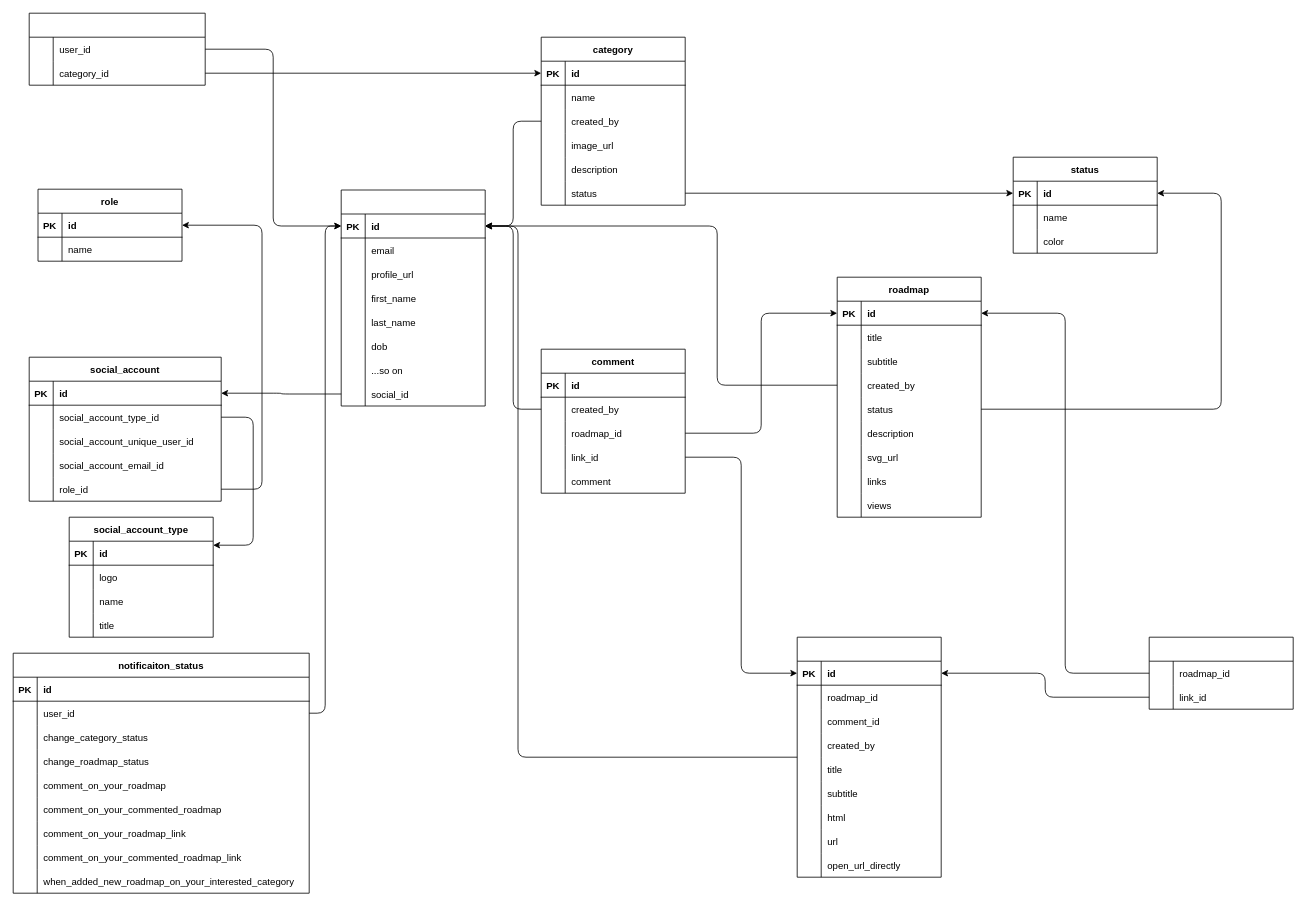
The diagram is 1306 pixels wide and 906 high, and some of its shapes have lost their labels. Each missing label, with the box of its shape:
link: (796, 636, 941, 877)
roadmap_link: (1148, 636, 1293, 709)
user: (340, 189, 485, 406)
user_category (interested category): (28, 12, 205, 85)
